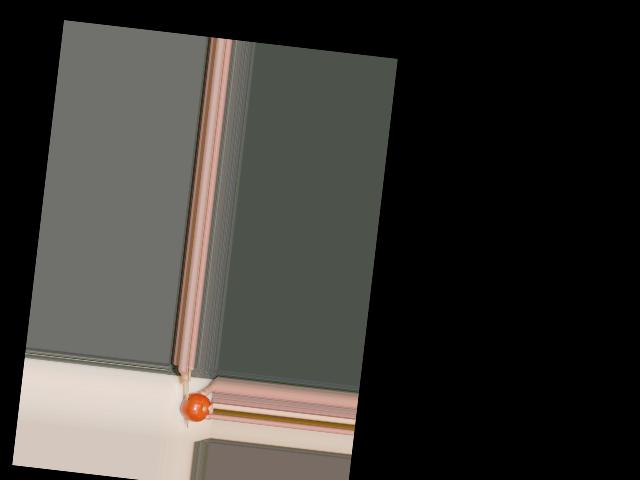tomato: (179, 391, 211, 423)
